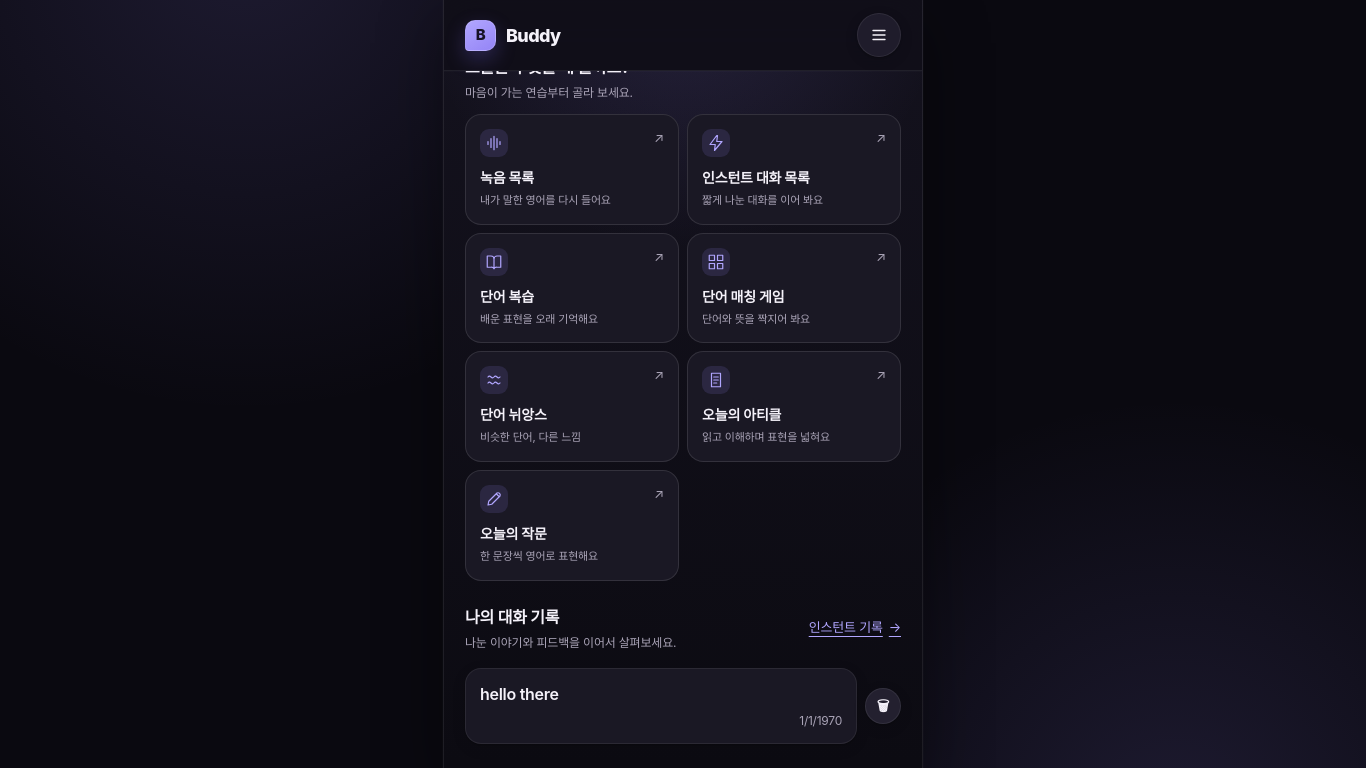
Test: room list › opening the end-conversation panel asks first and does not end the session until confirmed
This screenshot has width=1366, height=768.
(page scrolled)
Click the text "hello there" at (519, 694), box [480, 684, 559, 704]
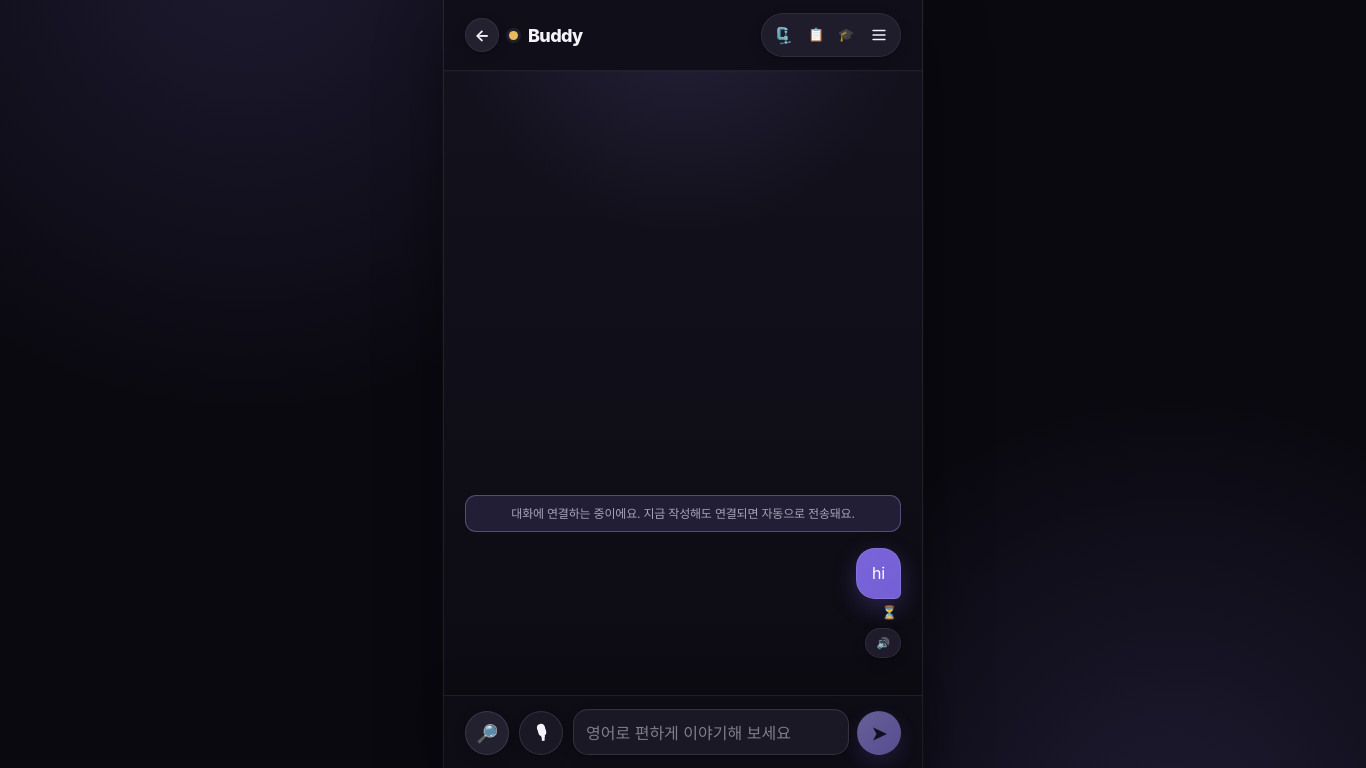
Result: the text "hi" is shown at [856, 548, 901, 599]
Click the button named "대화 종료" at (846, 35), box [832, 21, 860, 49]
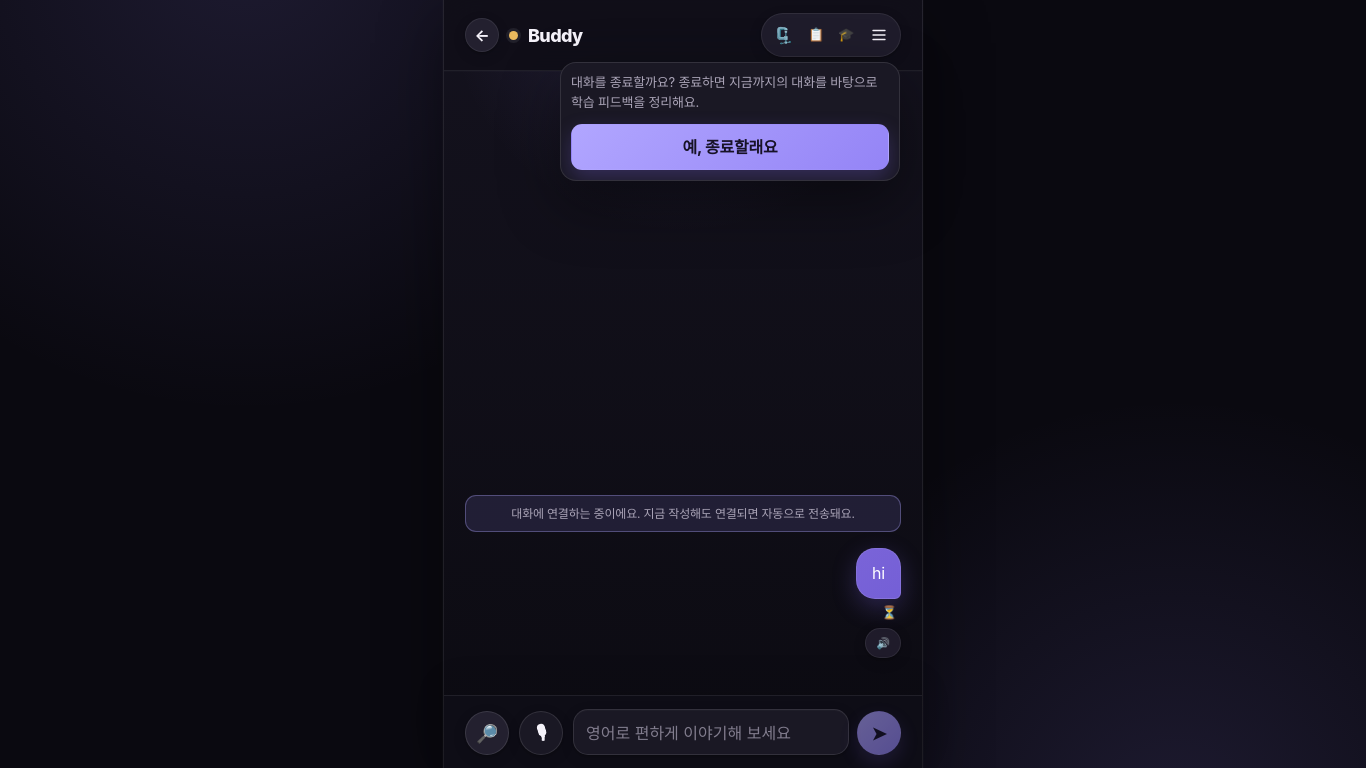
Result: the text "대화를 종료할까요? 종료하면 지금까지의 대화를 바탕으로 학습 피드백을 정리해요." is shown at [571, 73, 889, 112]
